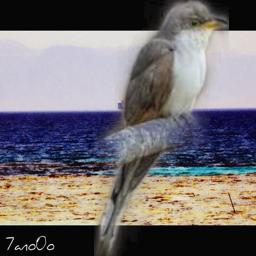Cuckoo: (94, 0, 229, 256)
